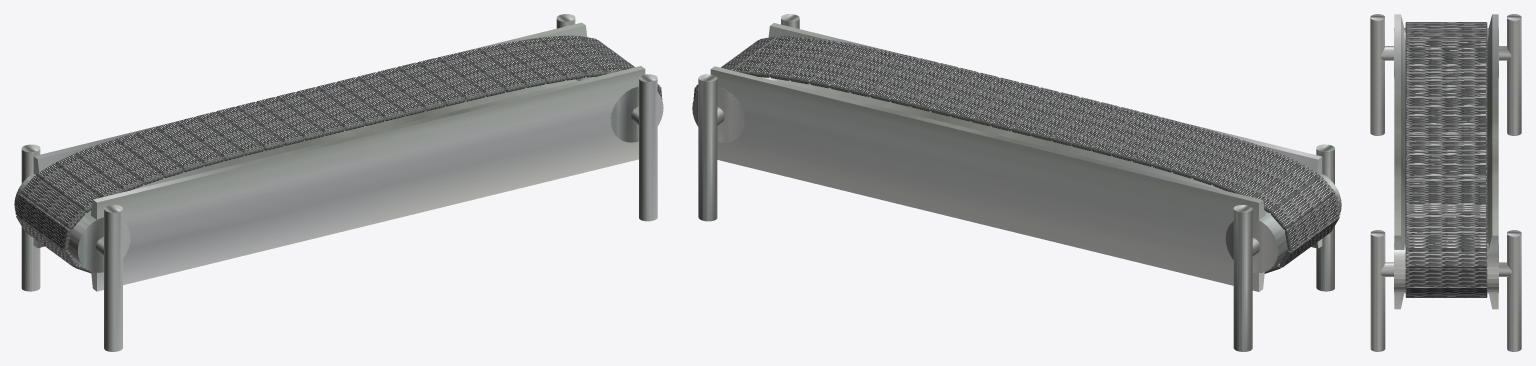
The model's file is Conveyors.fbx.
3 renders of one model, left to right at view 1: azimuth 30°, elevation 25°; view 2: azimuth 150°, elevation 25°; view 3: azimuth 270°, elevation 25°, orthographic. The views are drawn at different scales.
Parts seen in each view (by area): view 1: PenahanConveyor, BeltConveyor, KakiRodaKananConveyor.004, KakiRodaKananConveyor.003, RodaKiriConveyor, KakiRodaKananConveyor.002, RodaKananConveyor; view 2: PenahanConveyor, BeltConveyor, KakiRodaKananConveyor.001, KakiRodaKananConveyor.002, RodaKiriConveyor, KakiRodaKananConveyor.003, RodaKananConveyor; view 3: BeltConveyor, PenahanConveyor, KakiRodaKananConveyor.004, KakiRodaKananConveyor.002, KakiRodaKananConveyor.003, KakiRodaKananConveyor.001, RodaKananConveyor, KakiRodaKiriConveyor, KakiRodaKananConveyor, RodaKiriConveyor.
Boxes of the visible parts, left/top/right/bottom form: PenahanConveyor: left=33, top=22, right=645, bottom=291; BeltConveyor: left=15, top=35, right=662, bottom=273; KakiRodaKananConveyor.004: left=639, top=74, right=657, bottom=221; KakiRodaKananConveyor.003: left=104, top=205, right=122, bottom=351; RodaKiriConveyor: left=14, top=173, right=130, bottom=272; KakiRodaKananConveyor.002: left=21, top=144, right=40, bottom=291; RodaKananConveyor: left=576, top=77, right=663, bottom=142; PenahanConveyor: left=710, top=23, right=1322, bottom=291; BeltConveyor: left=693, top=36, right=1340, bottom=273; KakiRodaKananConveyor.001: left=698, top=74, right=717, bottom=221; KakiRodaKananConveyor.002: left=1233, top=205, right=1252, bottom=351; RodaKiriConveyor: left=1225, top=174, right=1341, bottom=273; KakiRodaKananConveyor.003: left=1316, top=144, right=1334, bottom=291; RodaKananConveyor: left=692, top=77, right=779, bottom=142; BeltConveyor: left=1405, top=22, right=1487, bottom=297; PenahanConveyor: left=1394, top=14, right=1498, bottom=309; KakiRodaKananConveyor.004: left=1370, top=230, right=1385, bottom=351; KakiRodaKananConveyor.002: left=1507, top=14, right=1521, bottom=135; KakiRodaKananConveyor.003: left=1370, top=14, right=1384, bottom=135; KakiRodaKananConveyor.001: left=1507, top=230, right=1521, bottom=351; RodaKananConveyor: left=1394, top=243, right=1498, bottom=293; KakiRodaKiriConveyor: left=1380, top=262, right=1511, bottom=276; KakiRodaKananConveyor: left=1380, top=46, right=1511, bottom=60; RodaKiriConveyor: left=1394, top=28, right=1498, bottom=77.
Bounding box in the file's own units: 454 × 107 × 120.
